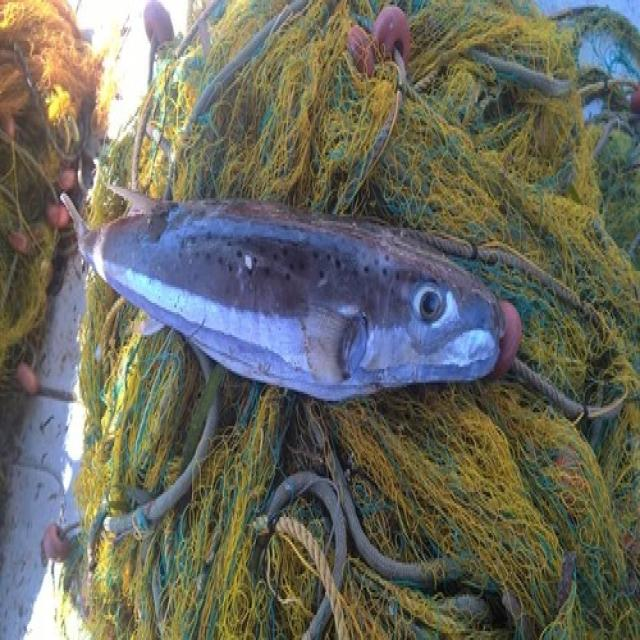Balik: (63, 187, 504, 400)
